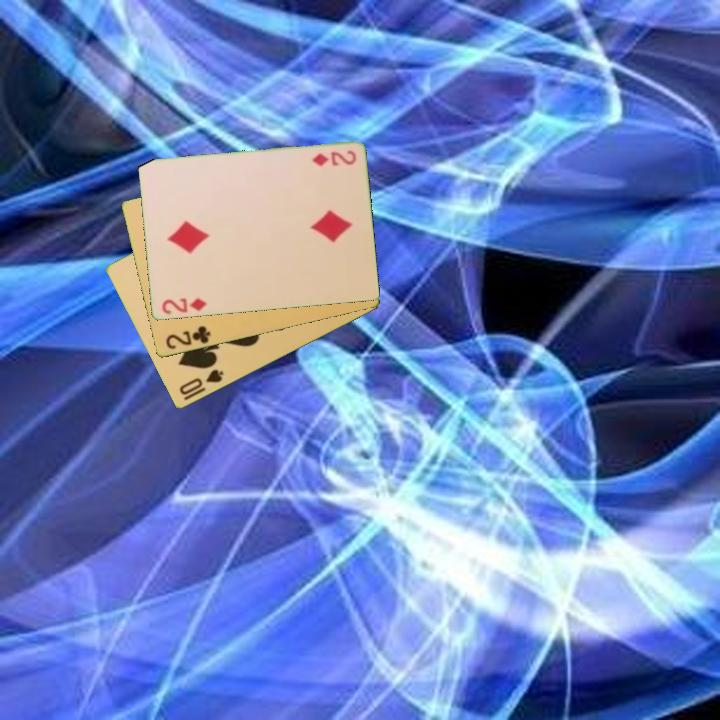10s: (176, 366, 226, 398)
2c: (162, 322, 214, 352)
2d: (158, 295, 209, 317), (308, 147, 359, 169)
